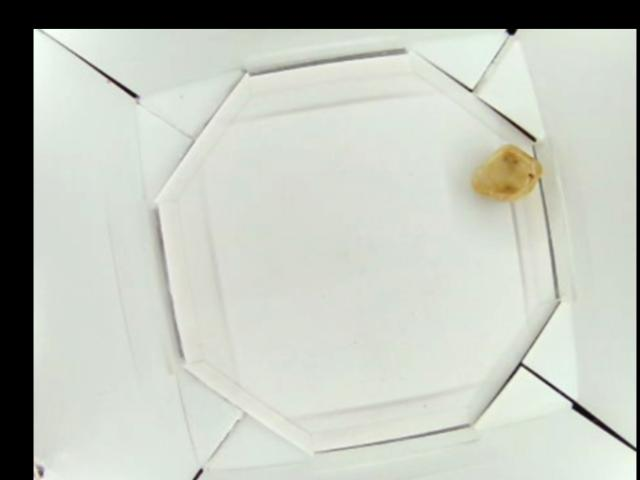Pebble: (471, 146, 546, 203)
